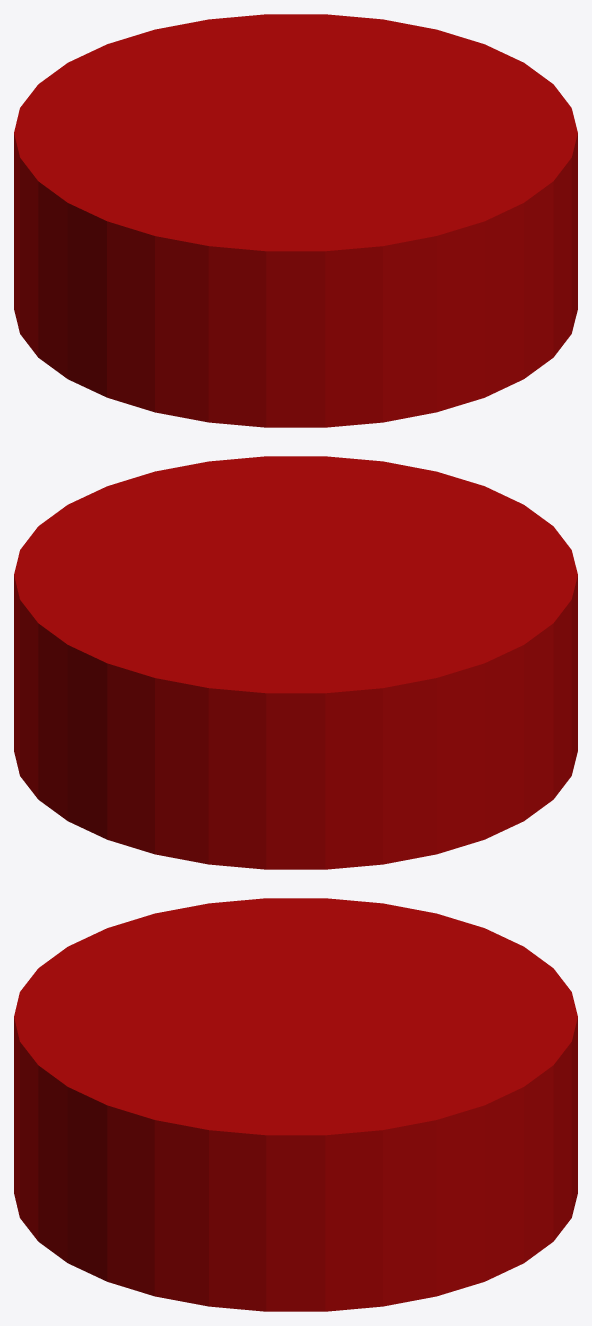
File: SM_乙腈瓶盖.fbx
3 renders of one model, top to bottom at view 1: azimuth 30°, elevation 25°; view 2: azimuth 150°, elevation 25°; view 3: azimuth 270°, elevation 25°, orthographic.
Parts seen in each view (by area): view 1: SM_乙腈瓶盖; view 2: SM_乙腈瓶盖; view 3: SM_乙腈瓶盖.
Part boxes in pixels (x1,y1,x2,y2): SM_乙腈瓶盖: [14, 14, 577, 427]; SM_乙腈瓶盖: [14, 456, 577, 869]; SM_乙腈瓶盖: [14, 898, 577, 1311].
Size of the model in its own units: 0.0274 by 0.0095 by 0.0275.
